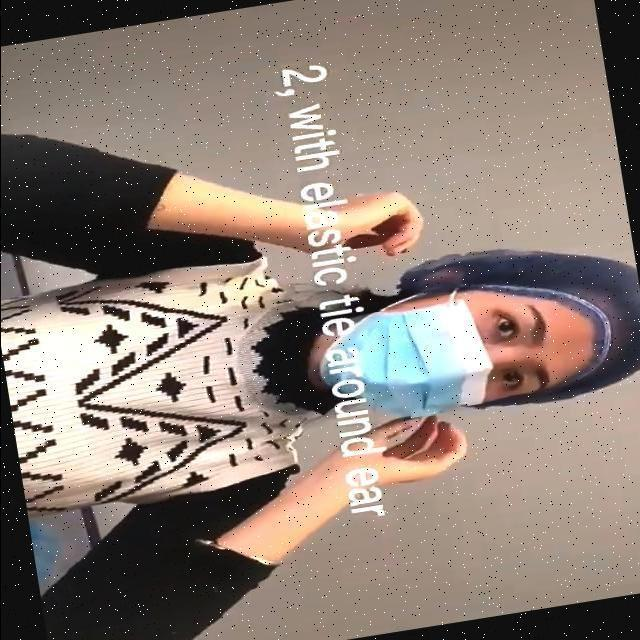gloves: (546, 233, 640, 382)
mask: (322, 302, 492, 416)
no_apron: (312, 164, 422, 258), (343, 418, 468, 489)
